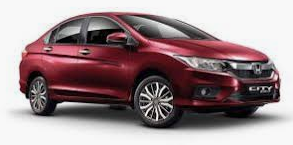car: (15, 7, 284, 135)
